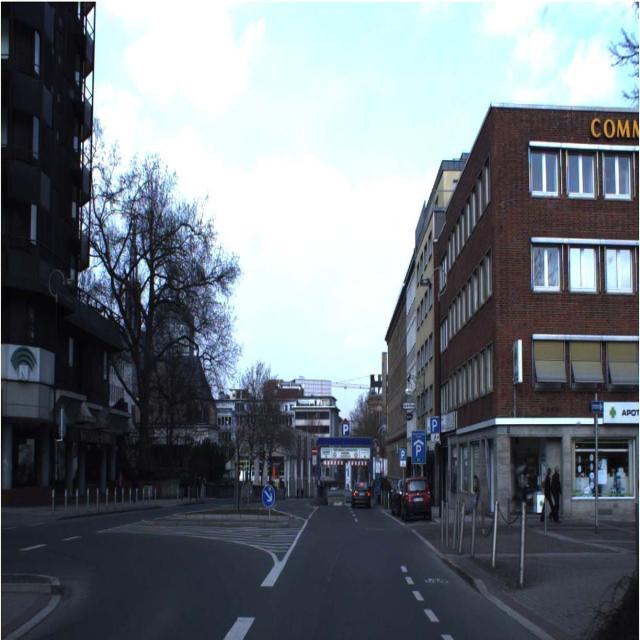park: (430, 417, 439, 433), (342, 423, 349, 437), (400, 448, 406, 460)
